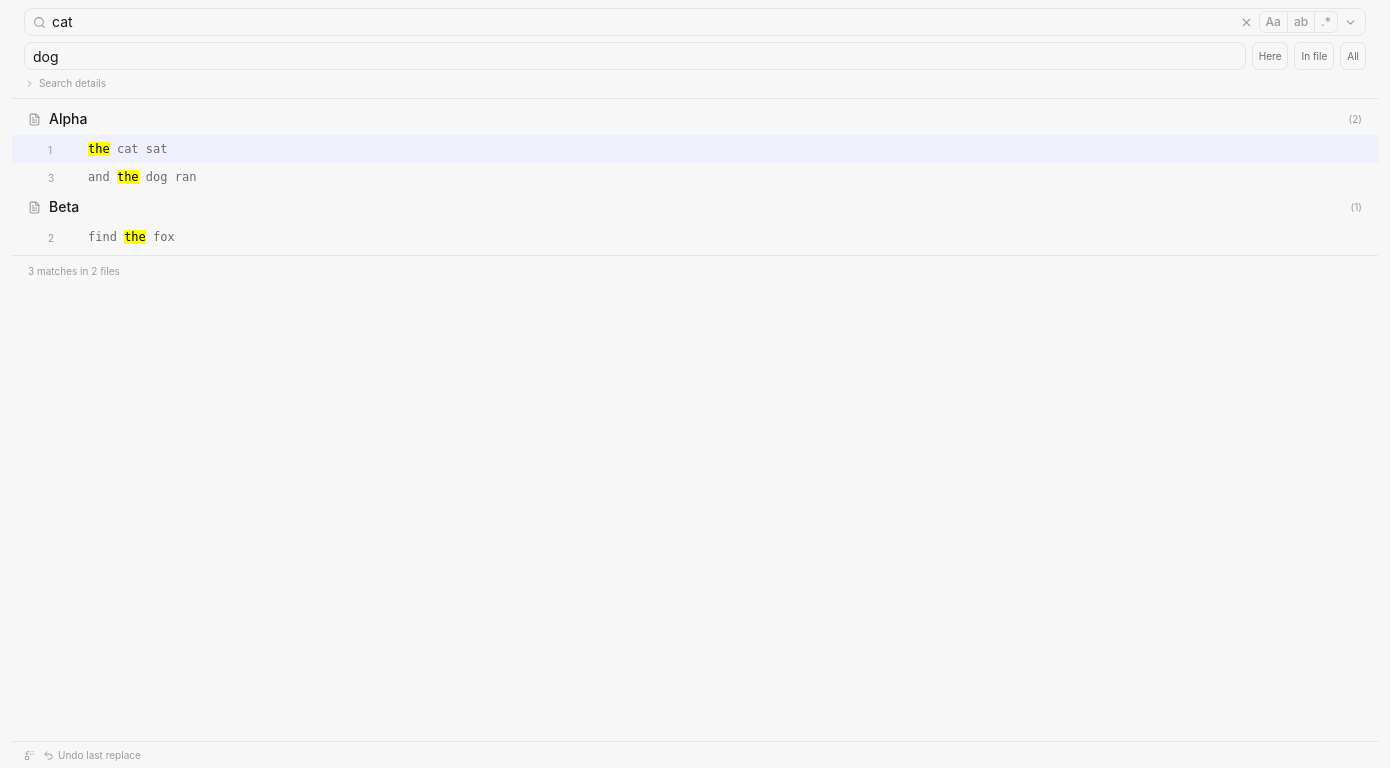
SidebarSearch (Search view) › says when the replace plan dropped files because they have unsaved edits
Click the button with test id "search-replace-all". click: (1353, 56)
box: [1340,42,1366,70]
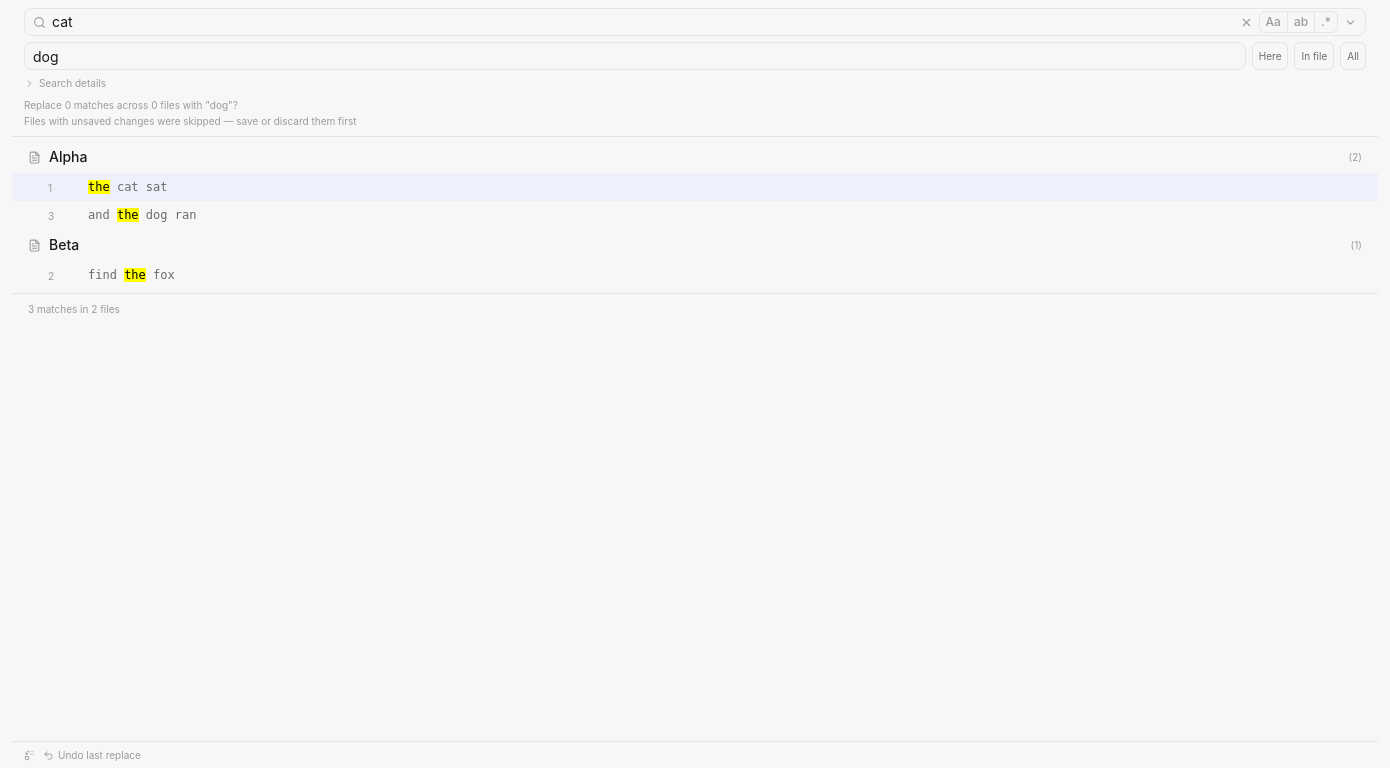
Now the text with test id "search-replace-skipped" reads "Files with unsaved changes were skipped — save or discard them first", box [24,115,356,127]
